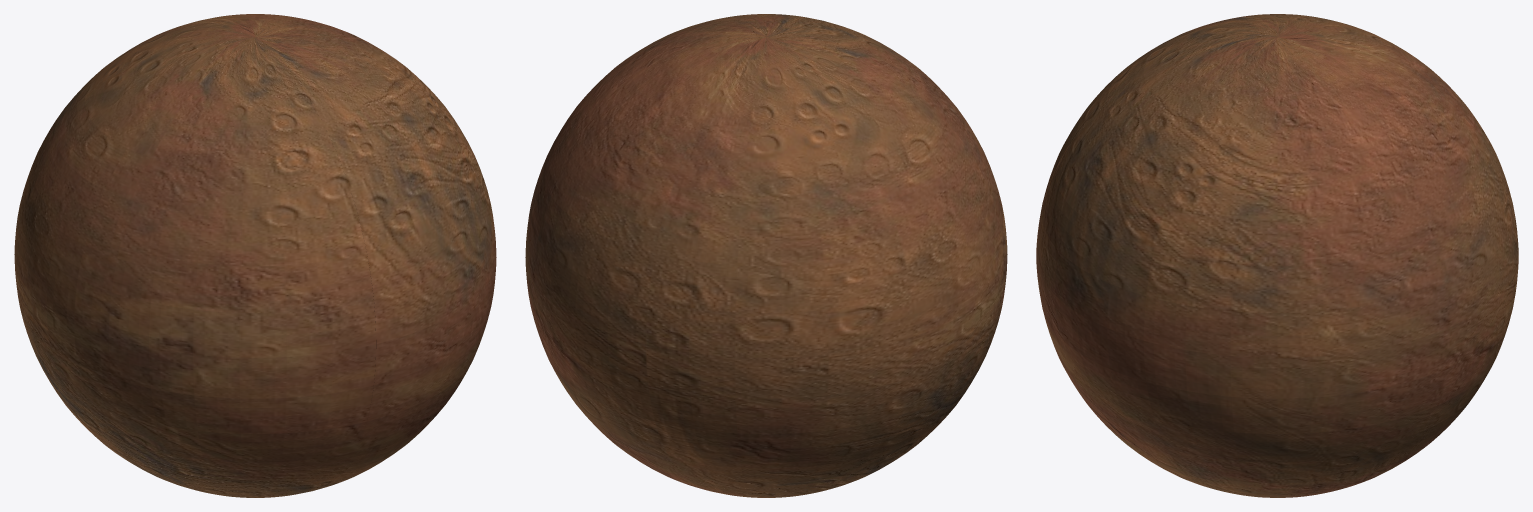
Rendered from mars.obj.
The picture shows the model from 3 angles, left to right: view 1: azimuth 30°, elevation 25°; view 2: azimuth 150°, elevation 25°; view 3: azimuth 270°, elevation 25°; orthographic projection.
Visible parts, largest first — view 1: Sphere; view 2: Sphere; view 3: Sphere.
Part boxes in pixels (x1,y1,x2,y2): Sphere: [14, 14, 496, 497]; Sphere: [525, 14, 1007, 497]; Sphere: [1036, 14, 1518, 497].
Bounding box in the file's own units: 1.98 × 1.98 × 1.98.
1 material, 1 textured.
